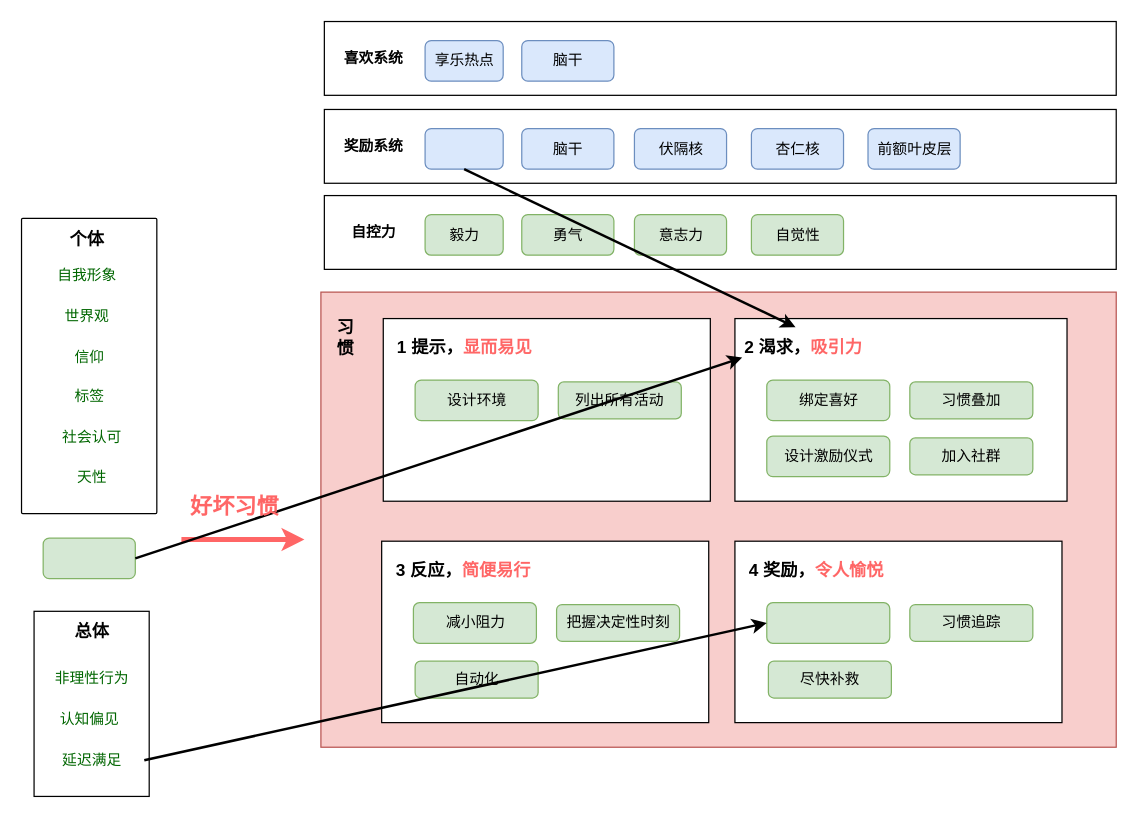
The diagram is 1138 pixels wide and 818 high, and some of its shapes have lost their labels. The shapes that lost their labels are listed below. From the top down, each one's box as (x1, y1, x2, y2) in pixels, then its label:
(424, 127, 503, 169): 多巴胺
(42, 537, 135, 579): 情绪
(766, 601, 890, 643): 即时奖励
